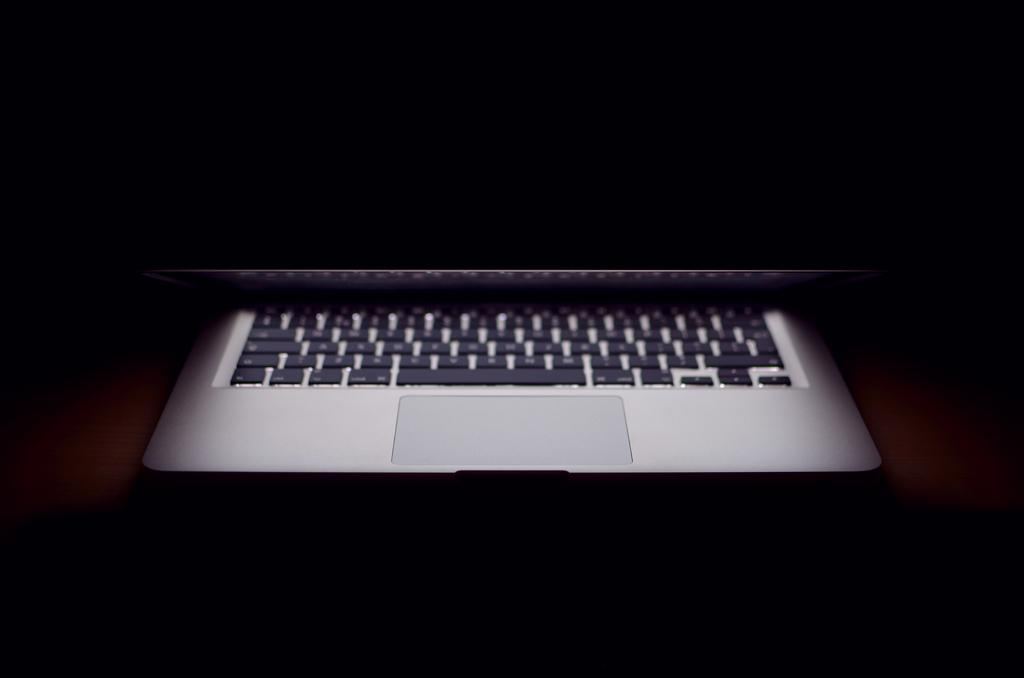Computer-keyboard: (229, 302, 795, 386)
Laptop: (147, 187, 931, 482)
